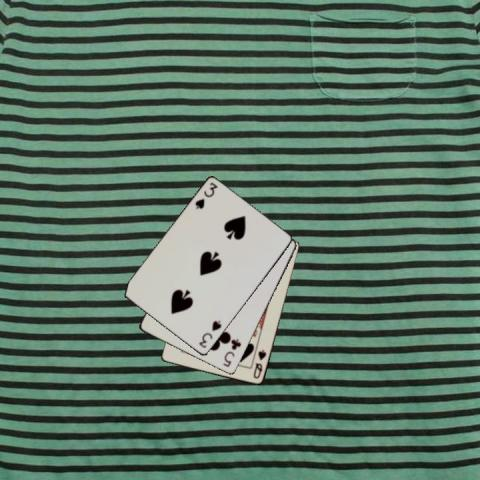3s: (196, 318, 223, 350), (192, 180, 219, 212)
5c: (220, 336, 243, 369)
Qs: (251, 347, 268, 380)
